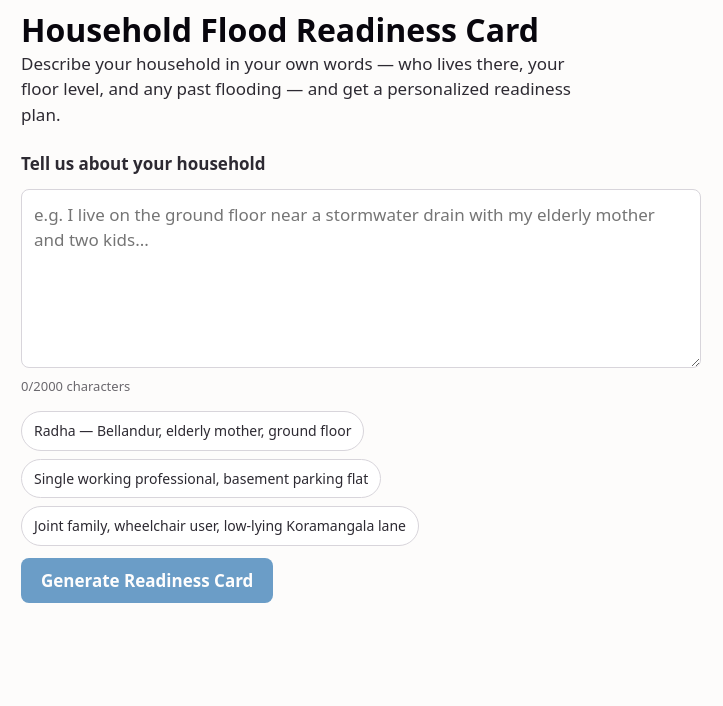
Test: App › lets the user retry after an error
Type "I live on the ground floor with my elderly mother and two kids." into the text box labelled "Tell us about your household" at (361, 278), box x1=21 y1=188 x2=701 y2=368
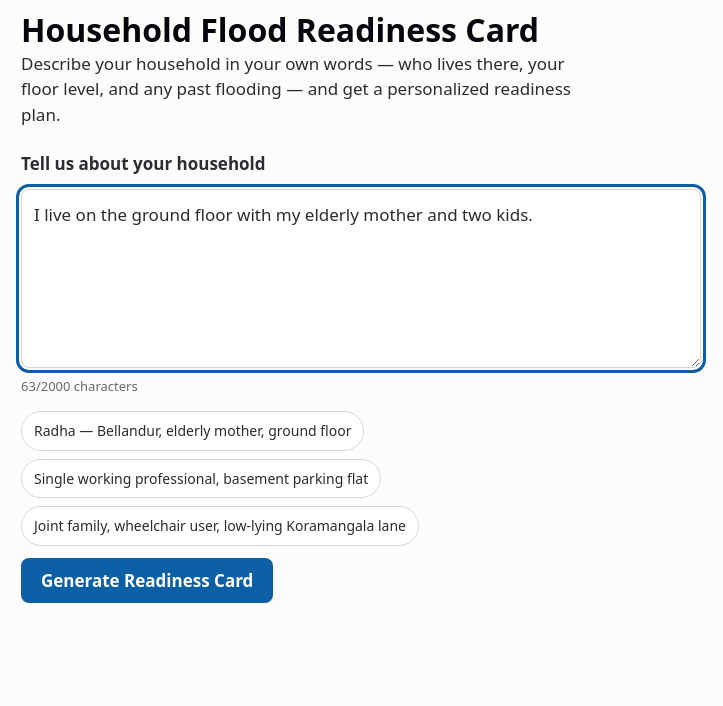
Click the button "Generate Readiness Card" at (147, 580), box x1=21 y1=558 x2=273 y2=603
(page scrolled)
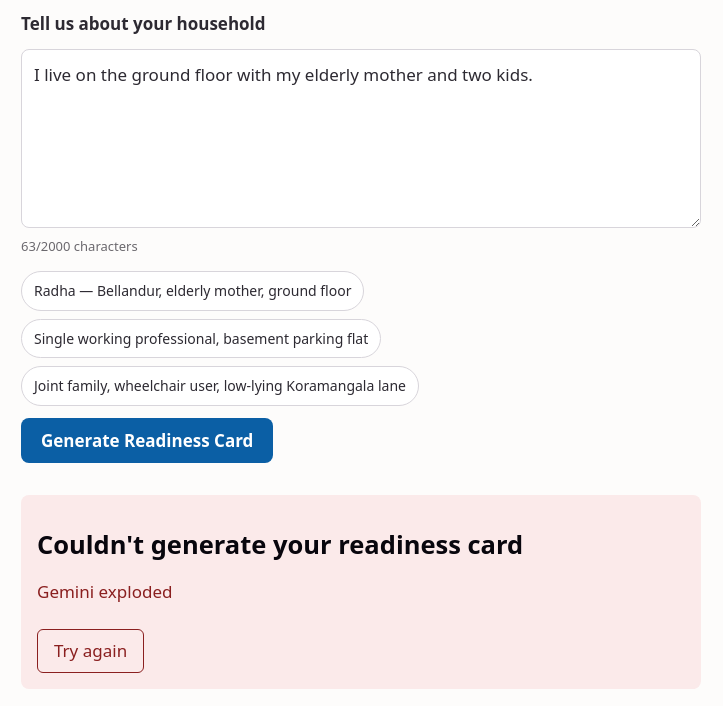
Now the message "Couldn't generate your readiness card Gemini exploded Try again" is shown, box x1=21 y1=495 x2=701 y2=689
Click the button "Try again" at (91, 651), box x1=37 y1=629 x2=144 y2=673
(page scrolled)
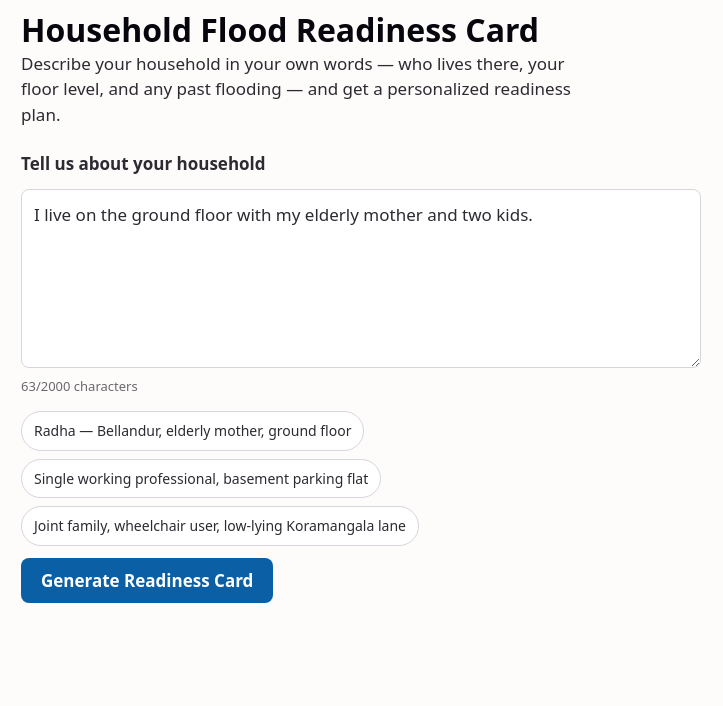
Now the message "Couldn't generate your readiness card Gemini exploded Try again" is gone
